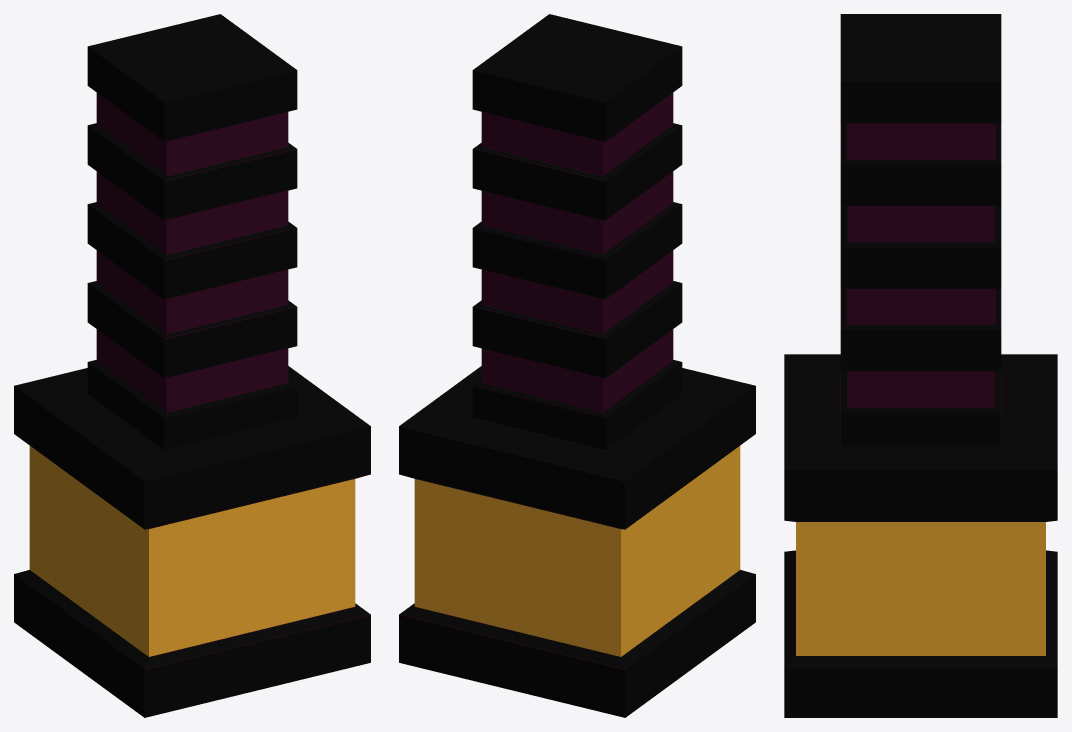
Rendered from Lamp.glb.
3 renders of one model, left to right at view 1: azimuth 30°, elevation 25°; view 2: azimuth 150°, elevation 25°; view 3: azimuth 270°, elevation 25°, orthographic. The views are drawn at different scales.
Parts seen in each view (by area): view 1: Lamp; view 2: Lamp; view 3: Lamp.
Part boxes in pixels (x1,y1,x2,y2): Lamp: [14, 14, 370, 717]; Lamp: [399, 14, 755, 717]; Lamp: [784, 14, 1057, 717].
Bounding box in the file's own units: 2 × 4.94 × 2.
Materials: 1 (1 with a texture image).
